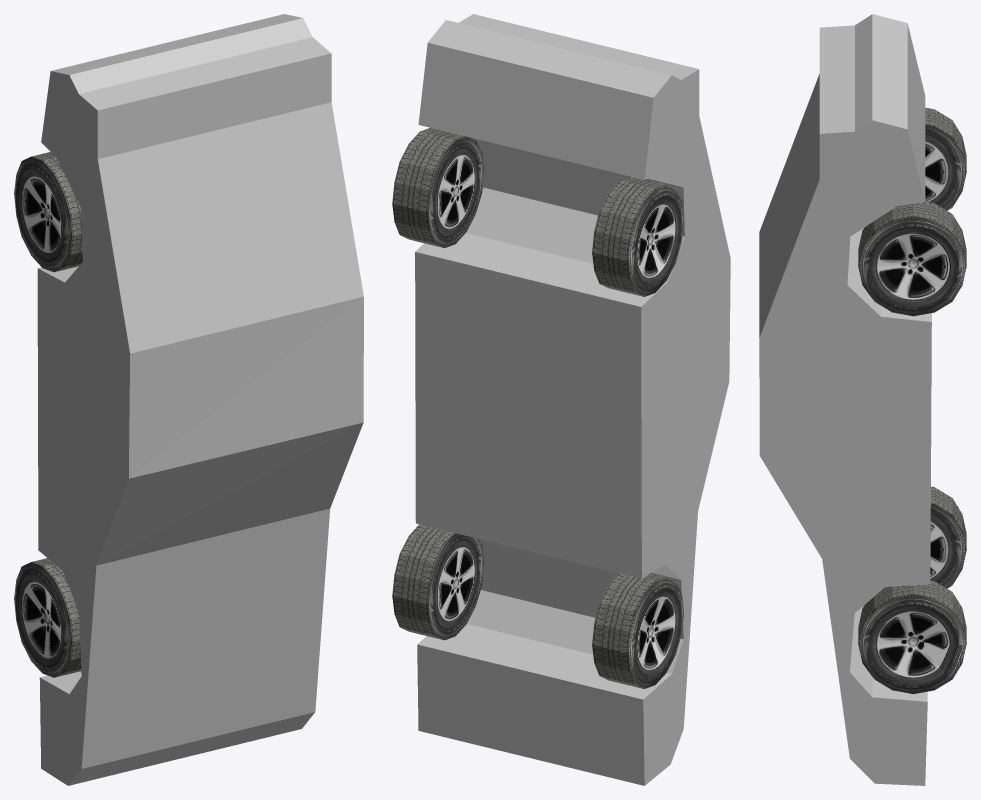
The model's file is vehicleshadow_wtf.obj.
The picture shows the model from 3 angles, left to right: view 1: azimuth 30°, elevation 25°; view 2: azimuth 150°, elevation 25°; view 3: azimuth 270°, elevation 25°; orthographic projection. The views are drawn at different scales.
Visible parts, largest first — view 1: group1, group3, group2; view 2: group1, group3, group5, group2, group4; view 3: group1, group5, group4, group3, group2.
Part boxes in pixels (x1,y1,x2,y2): group1: [37, 14, 363, 785]; group3: [14, 152, 82, 272]; group2: [14, 558, 81, 677]; group1: [415, 14, 730, 785]; group3: [592, 176, 683, 296]; group5: [392, 127, 484, 248]; group2: [592, 573, 683, 688]; group4: [392, 524, 484, 640]; group1: [759, 14, 931, 785]; group5: [858, 201, 966, 316]; group4: [858, 580, 966, 693]; group3: [925, 107, 966, 210]; group2: [930, 486, 966, 588].
Bounding box in the file's own units: 241 × 660 × 186.
